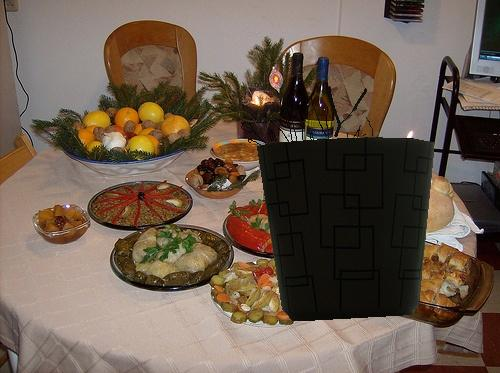tampered: (242, 87, 434, 321)
